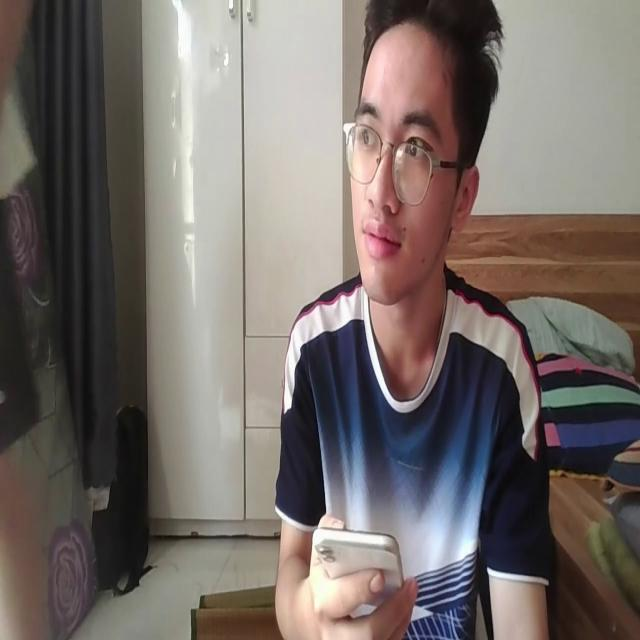phone: (302, 514, 408, 628)
student: (278, 0, 554, 640)
